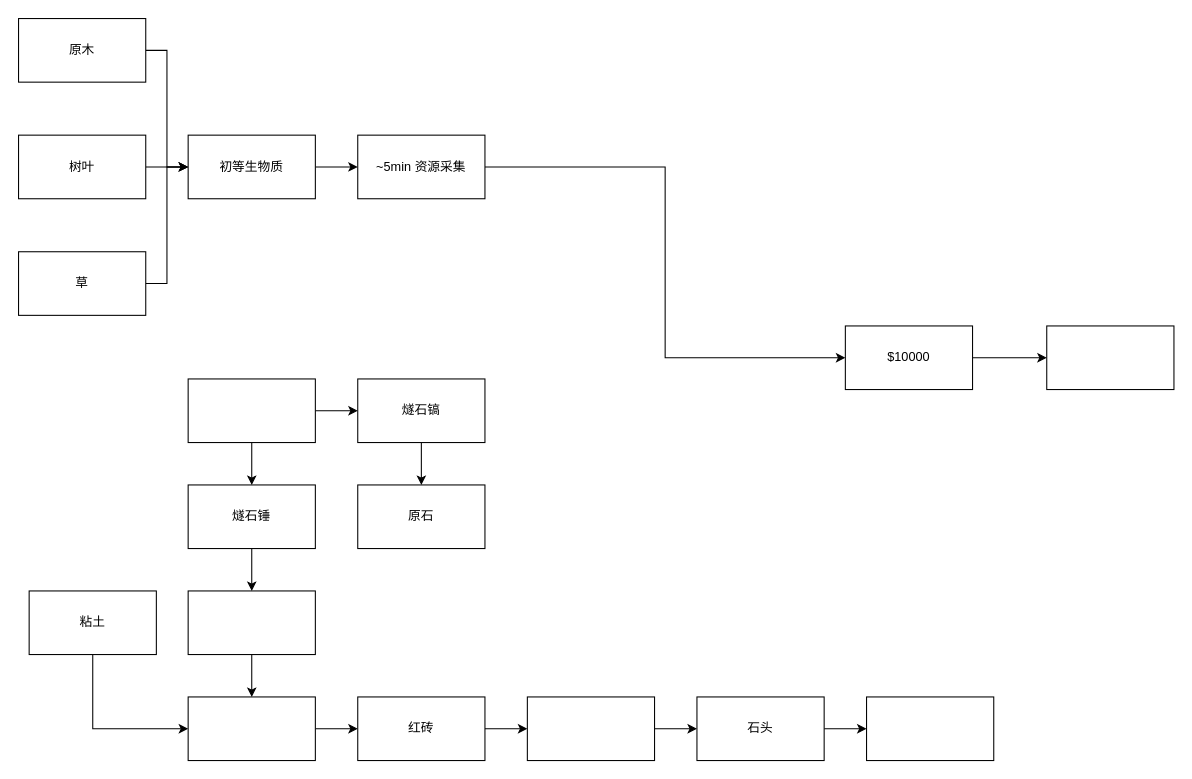
This 1192x779 diagram has some shape labels left out. The centre of each missing label's shape, as x and y in pixels:
"T1 Access" goes at pixel 1110 357.
"沙子" goes at pixel 251 622.
"熔炉" goes at pixel 929 728.
"燧石碎片" goes at pixel 251 410.
"瓷土" goes at pixel 251 728.
"红砖熔炉" goes at pixel 590 728.
